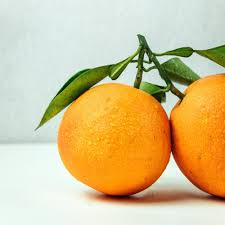orange: (48, 72, 172, 197), (169, 68, 225, 201)
